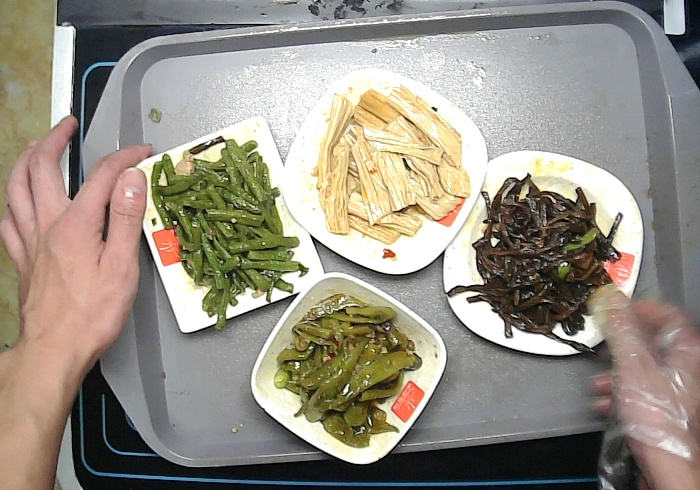SHKJ-Bai_Se_Cai_Die: (280, 69, 484, 275)
SHKJ-Bai_Se_Si_Fang_Cai_Die: (441, 150, 650, 358)
SHKJ-Bai_Se_Xiao_Fang_Die: (248, 270, 449, 470)
SHKJ-Si_Fang_Min: (119, 116, 328, 333)
